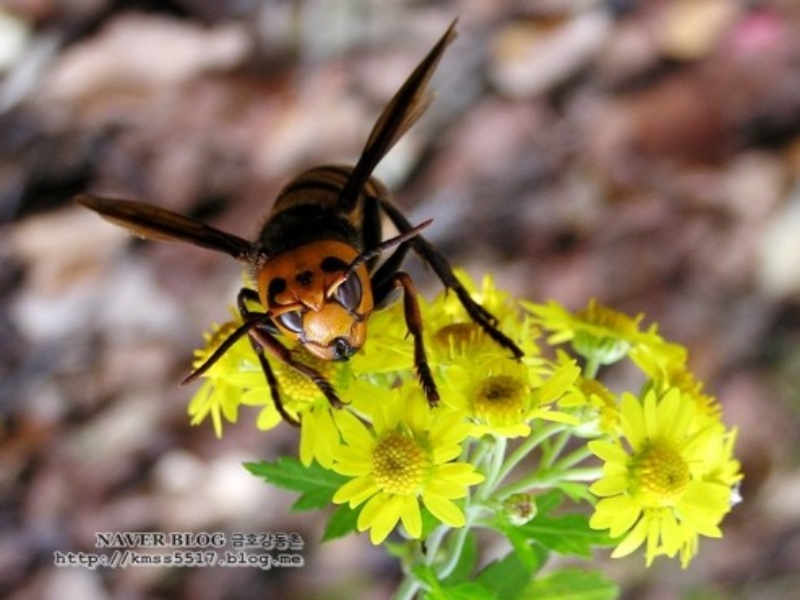asian_giant_hornet: (234, 160, 435, 378)
